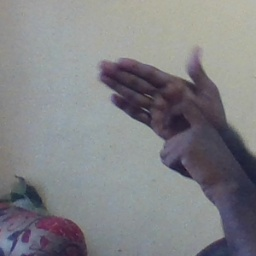R: (95, 40, 230, 180)
